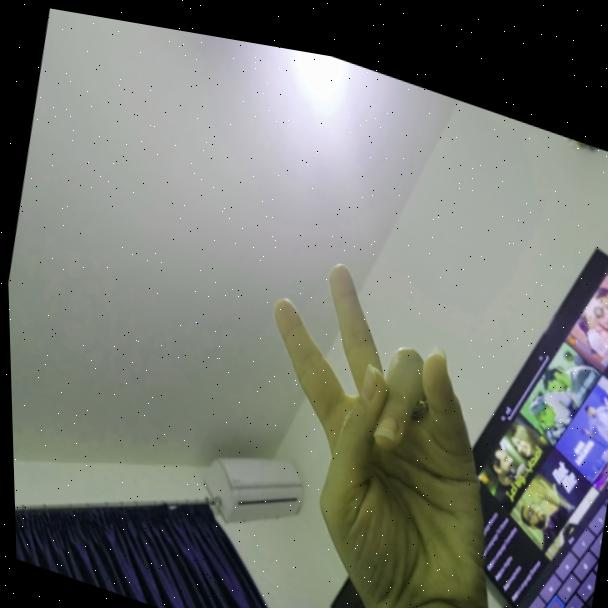two: (224, 209, 507, 608)
